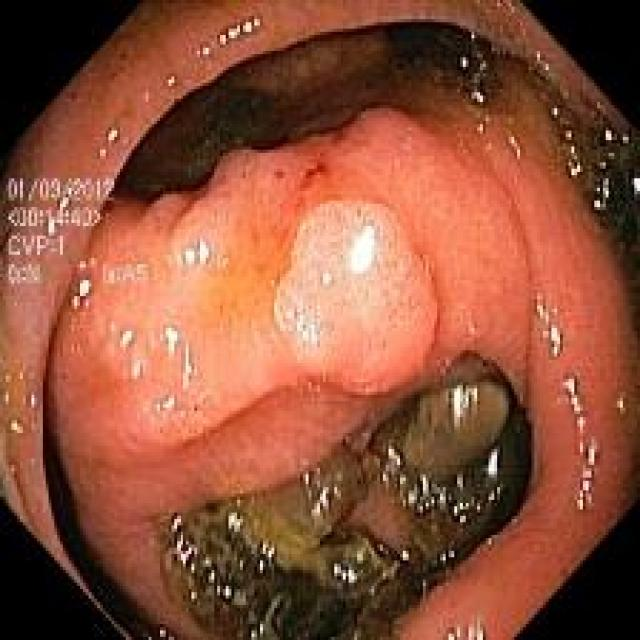Polyps: (275, 201, 436, 394)
